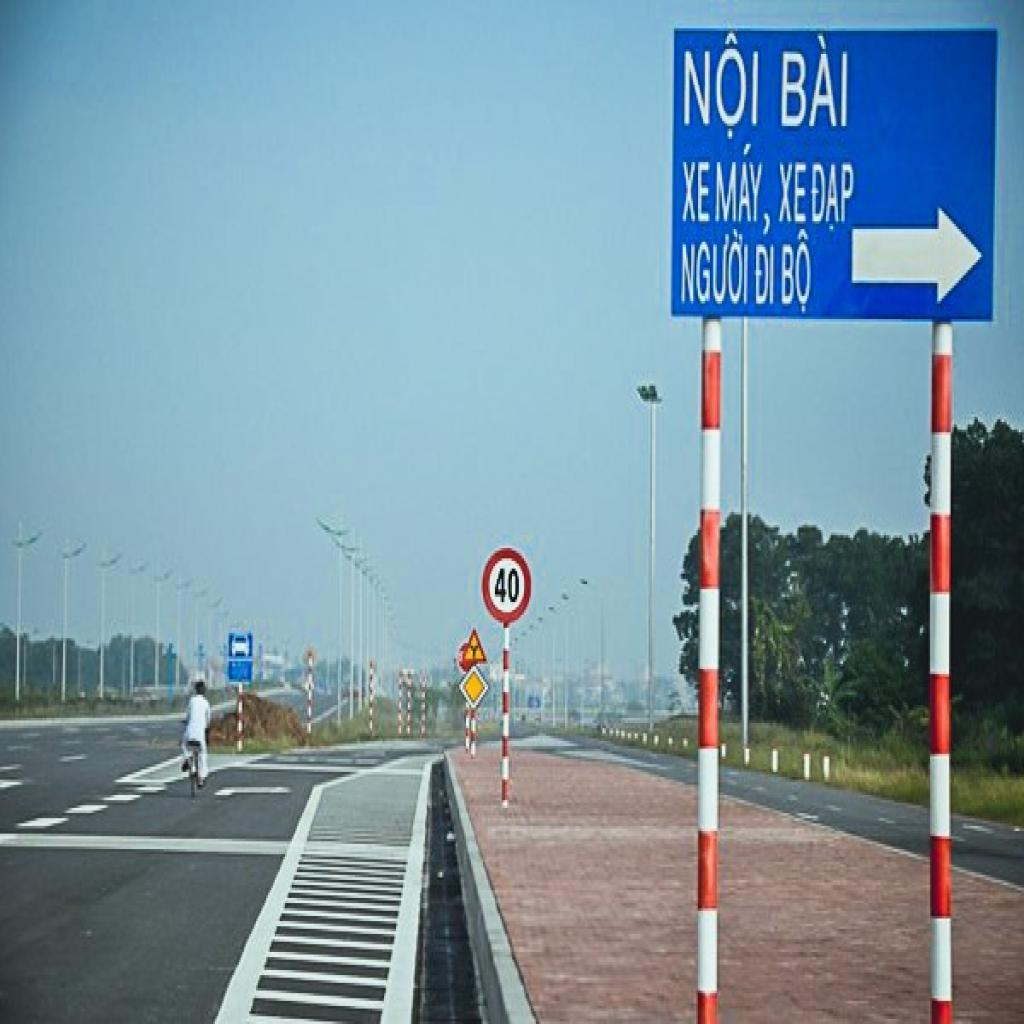text: (683, 31, 763, 144), (778, 33, 852, 134), (679, 226, 751, 312), (715, 142, 775, 240), (809, 160, 857, 234), (778, 226, 816, 319), (680, 160, 714, 226), (776, 160, 809, 226), (752, 242, 776, 309), (492, 564, 522, 607)
